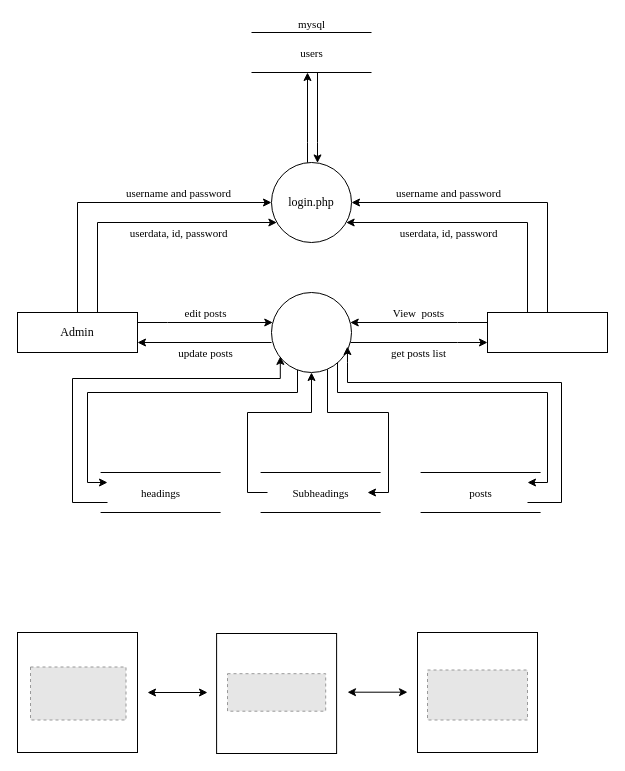
Some shapes in this 625 by 771 pixel diagram are drawn without their labels. Grey dashed boxes stand in for pictures. Here are the shapes that lost their labels. From the top down, the centre of each, then its label:
At (311,332): "index.php".
At (547,332): "User".
